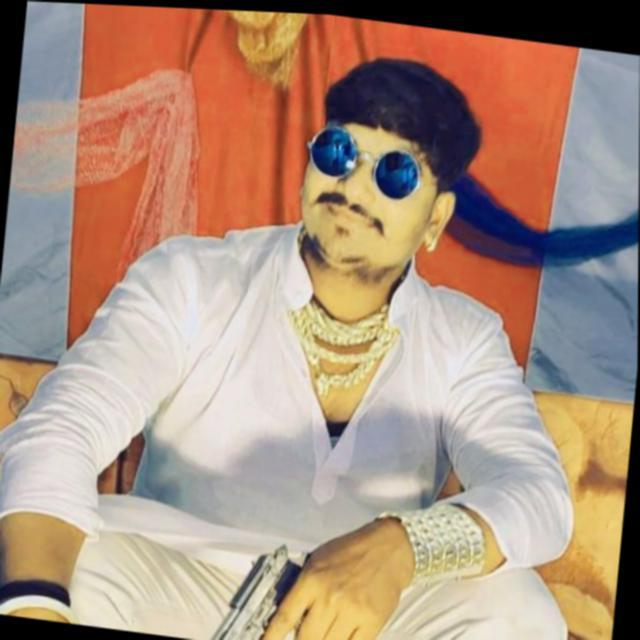weapon: (172, 525, 385, 640)
